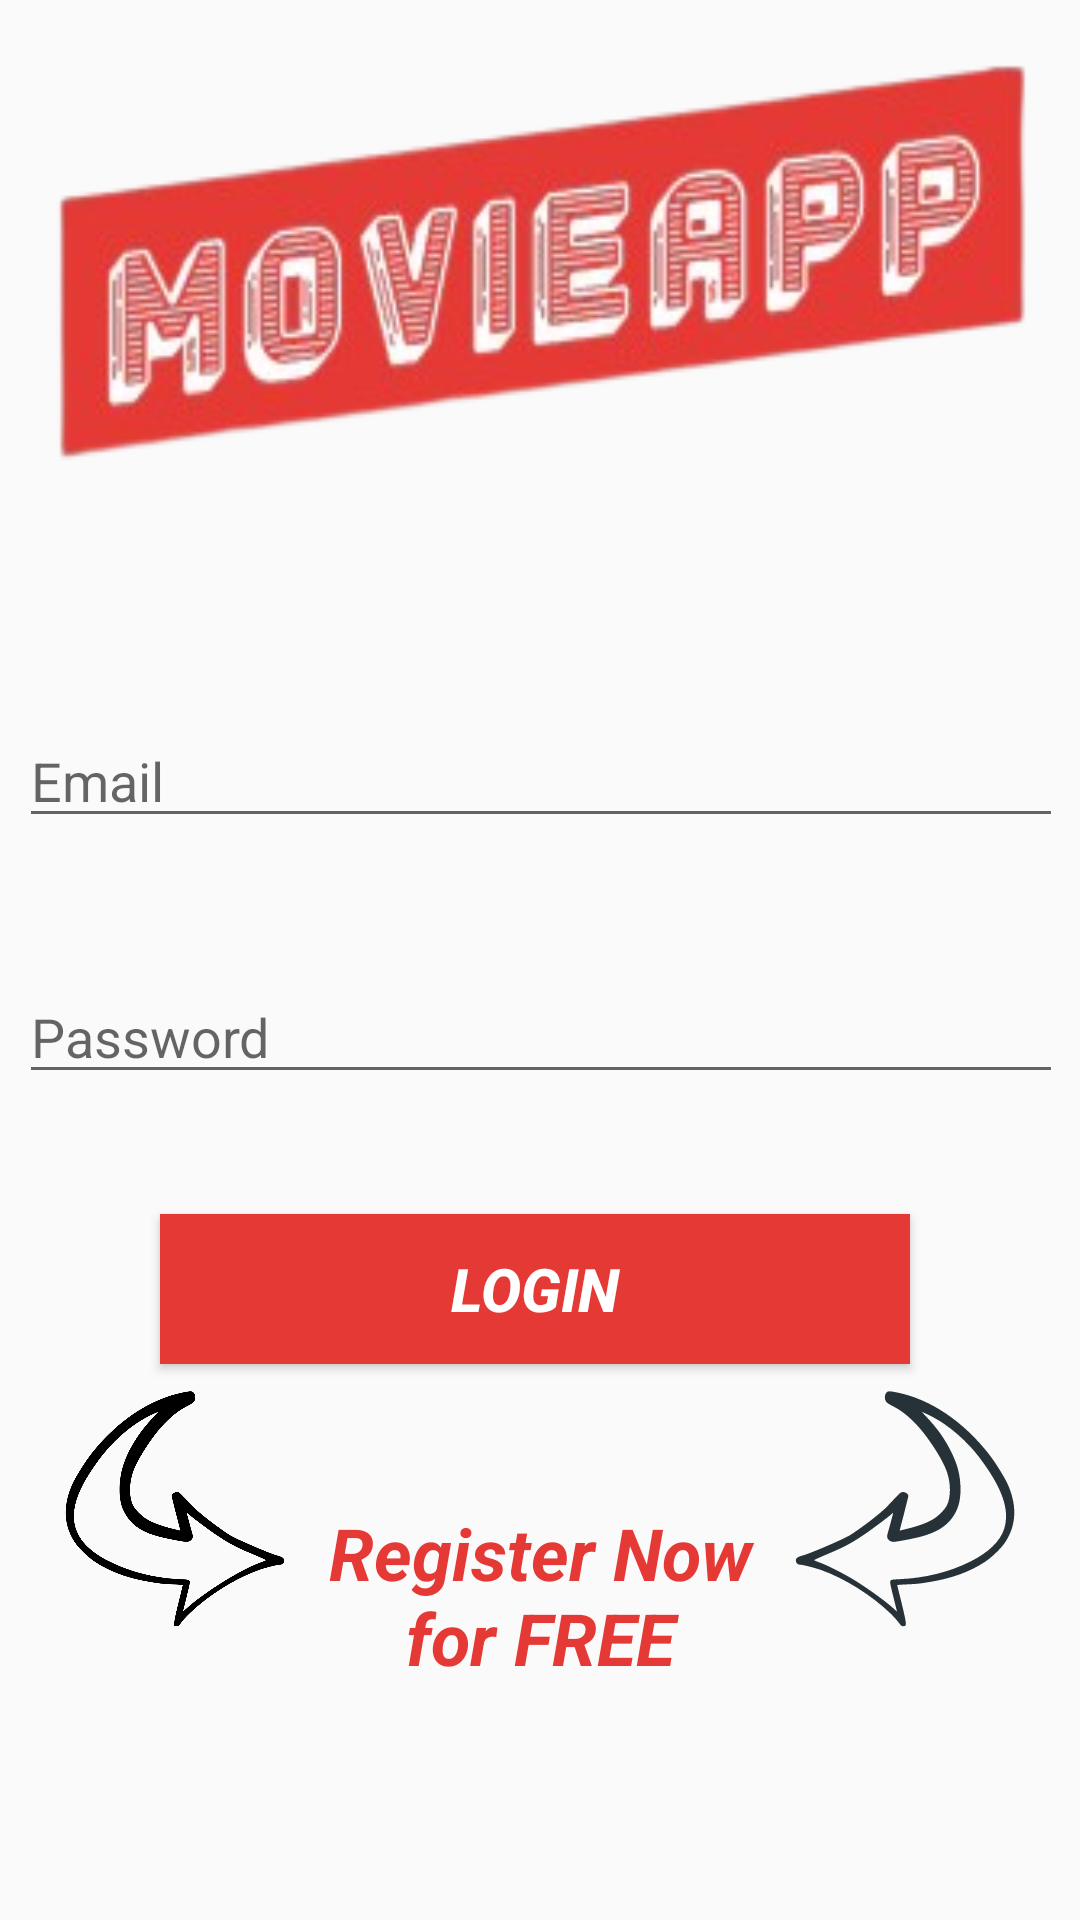

Named icons in this screenshot (1080×1920) and their bounding boxes, detection(x1, y1, x2, y2):
arrow: detection(65, 1391, 284, 1626)
mirroredarrow: detection(795, 1391, 1015, 1627)
